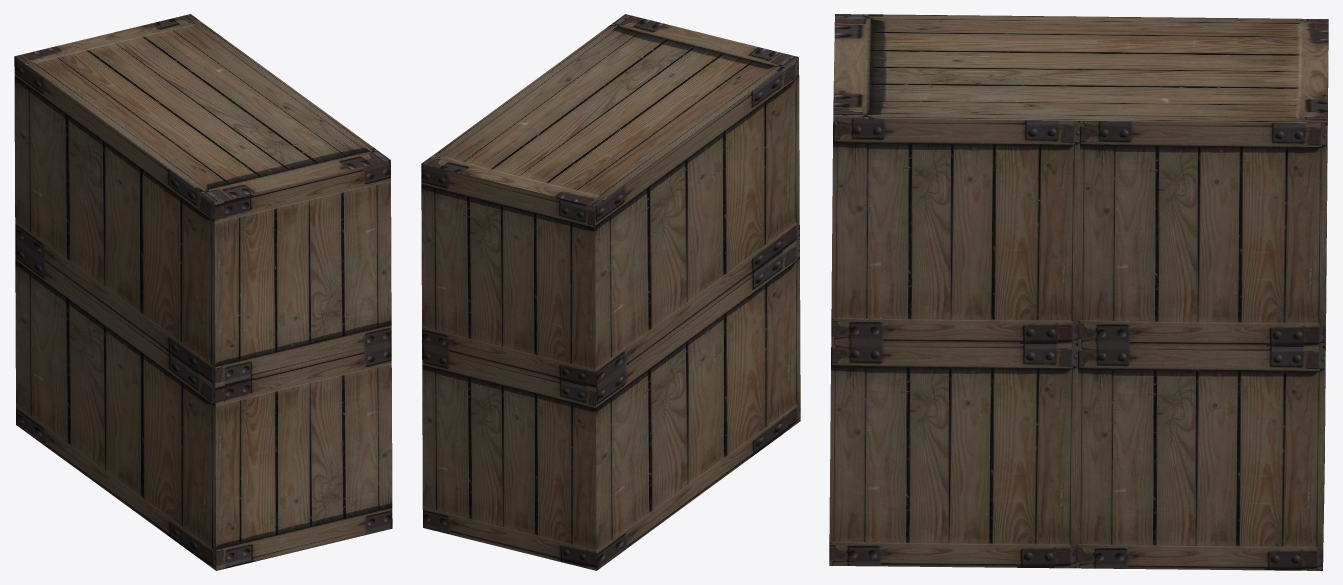
File: mobilecrate.glb
3 renders of one model, left to right at view 1: azimuth 30°, elevation 25°; view 2: azimuth 150°, elevation 25°; view 3: azimuth 270°, elevation 25°, orthographic. The views are drawn at different scales.
Parts seen in each view (by area): view 1: Cube.004; view 2: Cube.004; view 3: Cube.004.
Boxes of the visible parts, bbox=[...] form: Cube.004: bbox=[14, 14, 392, 570]; Cube.004: bbox=[421, 14, 800, 570]; Cube.004: bbox=[829, 14, 1328, 570].
Size of the model in its own units: 0.2536 by 0.504 by 0.5058.
1 material, 1 textured.
